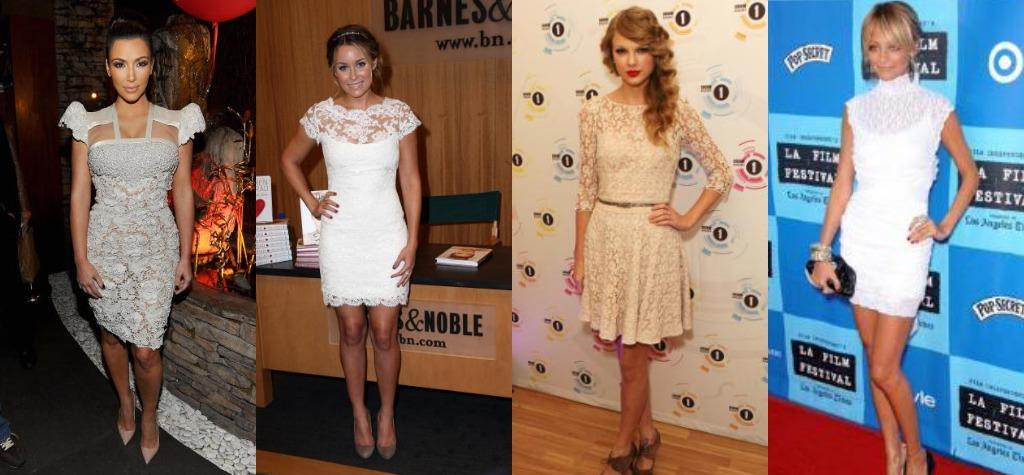face: (109, 42, 151, 102), (866, 29, 909, 80), (612, 35, 653, 85), (333, 50, 373, 97)
